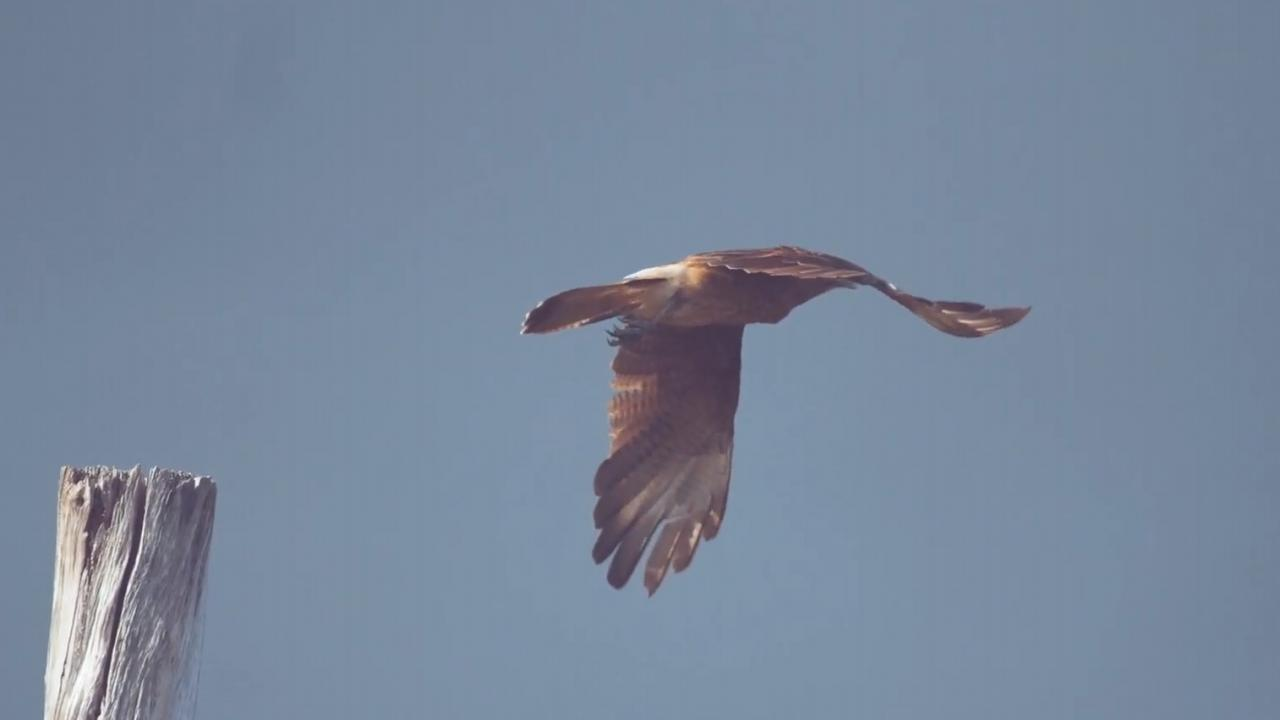Bird: (516, 238, 1038, 600)
